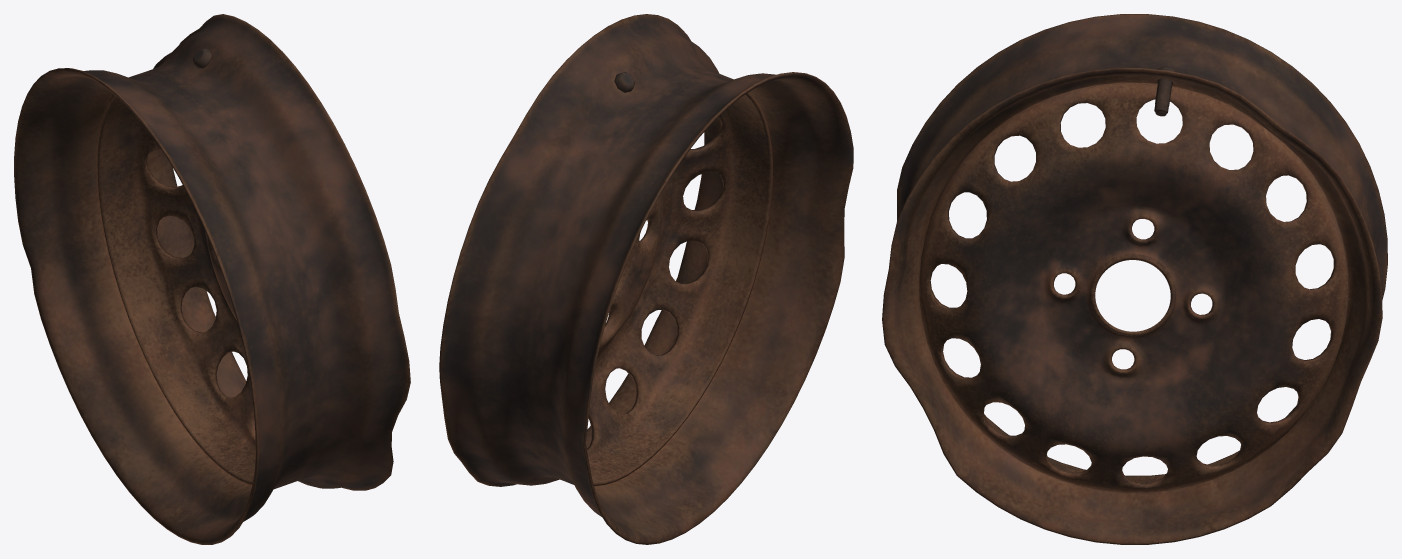
The model's file is damagedWheel.glb.
3 views of the same model, side by side, from view 1: azimuth 30°, elevation 25°; view 2: azimuth 150°, elevation 25°; view 3: azimuth 270°, elevation 25° (orthographic).
Visible parts, largest first — view 1: rusted_wheel_rim_02; view 2: rusted_wheel_rim_02; view 3: rusted_wheel_rim_02.
Part boxes in pixels (bbox=[...]): rusted_wheel_rim_02: bbox=[14, 14, 410, 544]; rusted_wheel_rim_02: bbox=[439, 14, 853, 544]; rusted_wheel_rim_02: bbox=[882, 14, 1387, 544].
Bounding box in the file's own units: 0.1602 × 0.35 × 0.341.
1 material, 1 textured.
